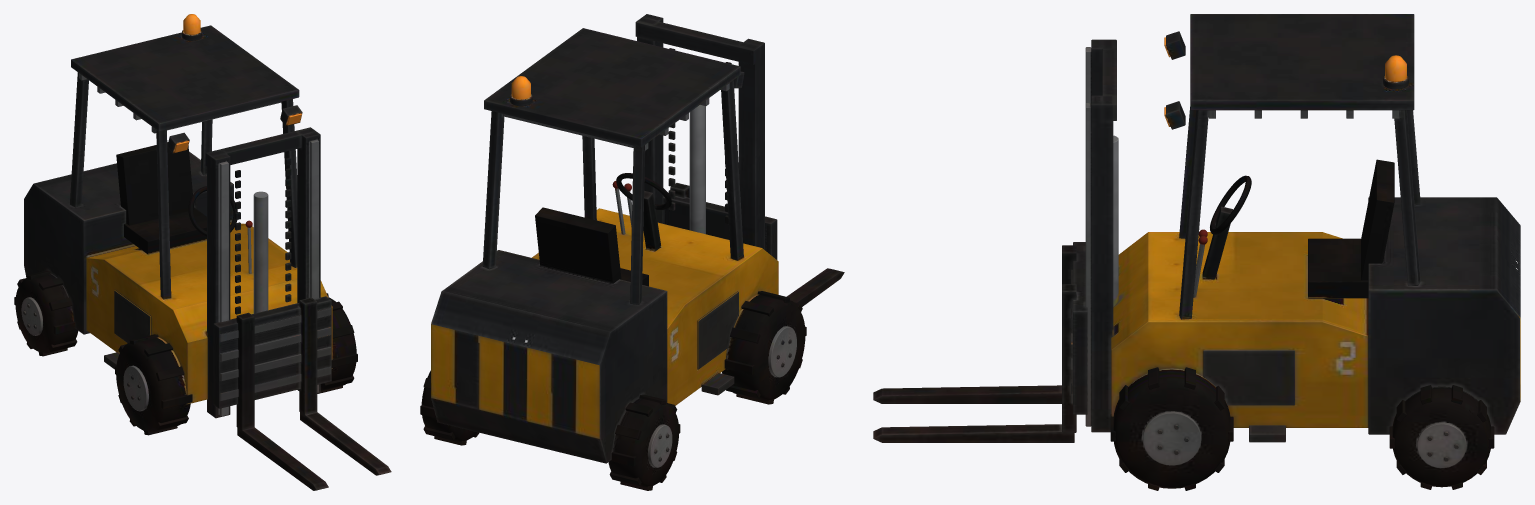
The model's file is loader.glb.
3 renders of one model, left to right at view 1: azimuth 30°, elevation 25°; view 2: azimuth 150°, elevation 25°; view 3: azimuth 270°, elevation 25°, orthographic. The views are drawn at different scales.
Parts seen in each view (by area): view 1: loader; view 2: loader; view 3: loader.
Boxes of the visible parts, x1,y1,x2,y2 form: loader: (14,14,391,490); loader: (420,14,844,490); loader: (873,14,1520,490).
Size of the model in its own units: 1.64 by 2.42 by 3.53.
Materials: 2 (2 with a texture image).
